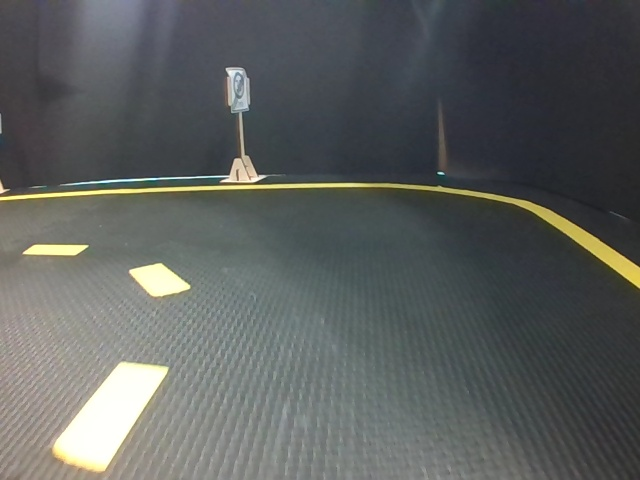no30: (226, 69, 247, 110)
